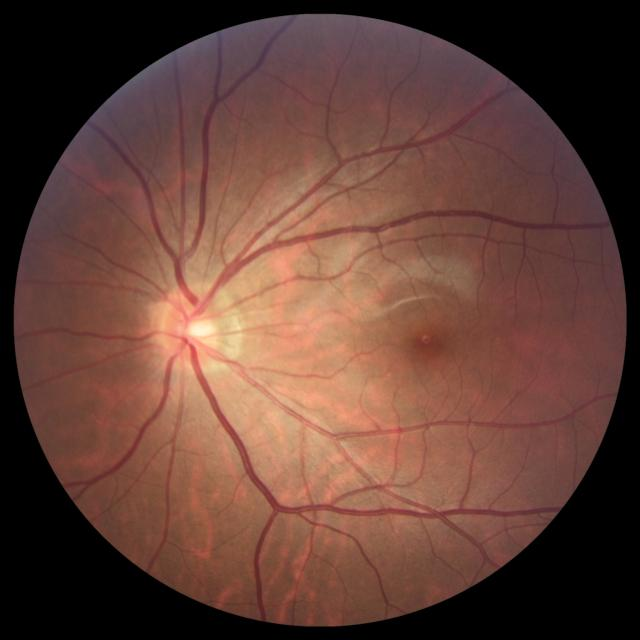OC: (178, 310, 211, 348)
OD: (156, 286, 220, 371)
